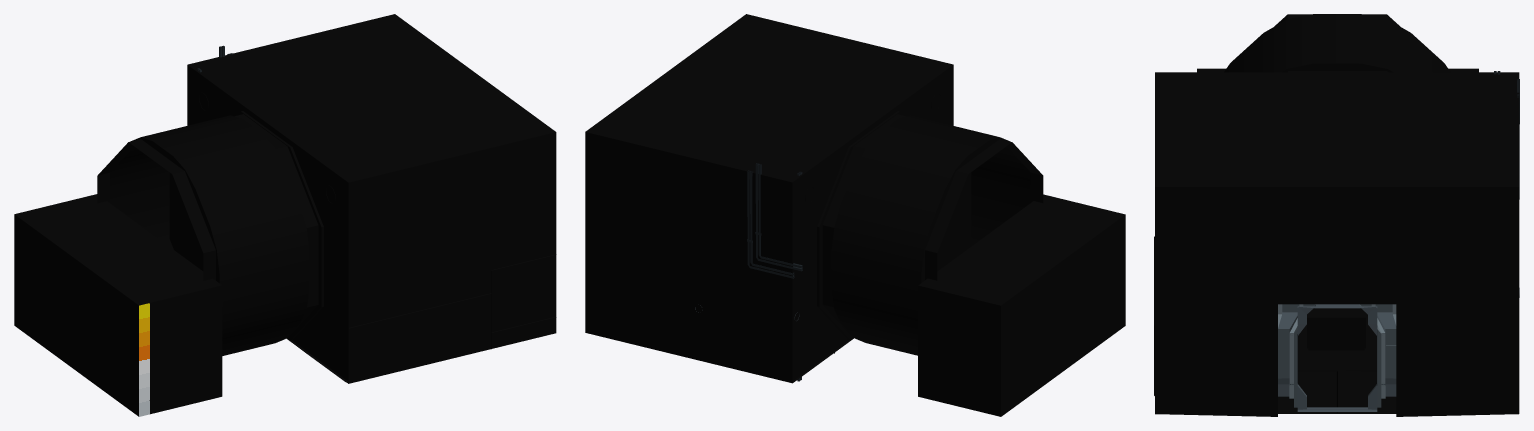
File: ROOMKEY_MovingObj.fbx
3 views of the same model, side by side, from view 1: azimuth 30°, elevation 25°; view 2: azimuth 150°, elevation 25°; view 3: azimuth 270°, elevation 25° (orthographic). The views are drawn at different scales.
Parts seen in each view (by area): view 1: Cylinder.075, Cube.342, Cylinder.082; view 2: Cylinder.075, Cube.342, Cylinder.082; view 3: Cylinder.075, ROOMKEY_MovingObj, Plane.018, Cube.343.
Part boxes in pixels (x1=…): Cylinder.075: x1=97, y1=14, x2=556, y2=383; Cube.342: x1=14, y1=194, x2=222, y2=416; Cylinder.082: x1=169, y1=172, x2=203, y2=270; Cylinder.075: x1=585, y1=14, x2=1043, y2=383; Cube.342: x1=918, y1=194, x2=1125, y2=416; Cylinder.082: x1=937, y1=172, x2=971, y2=270; Cylinder.075: x1=1154, y1=14, x2=1519, y2=416; ROOMKEY_MovingObj: x1=1278, y1=304, x2=1396, y2=411; Plane.018: x1=1278, y1=313, x2=1396, y2=412; Cube.343: x1=1307, y1=308, x2=1365, y2=350.
Bounding box in the file's own units: 9.6 × 4.96 × 6.75.
